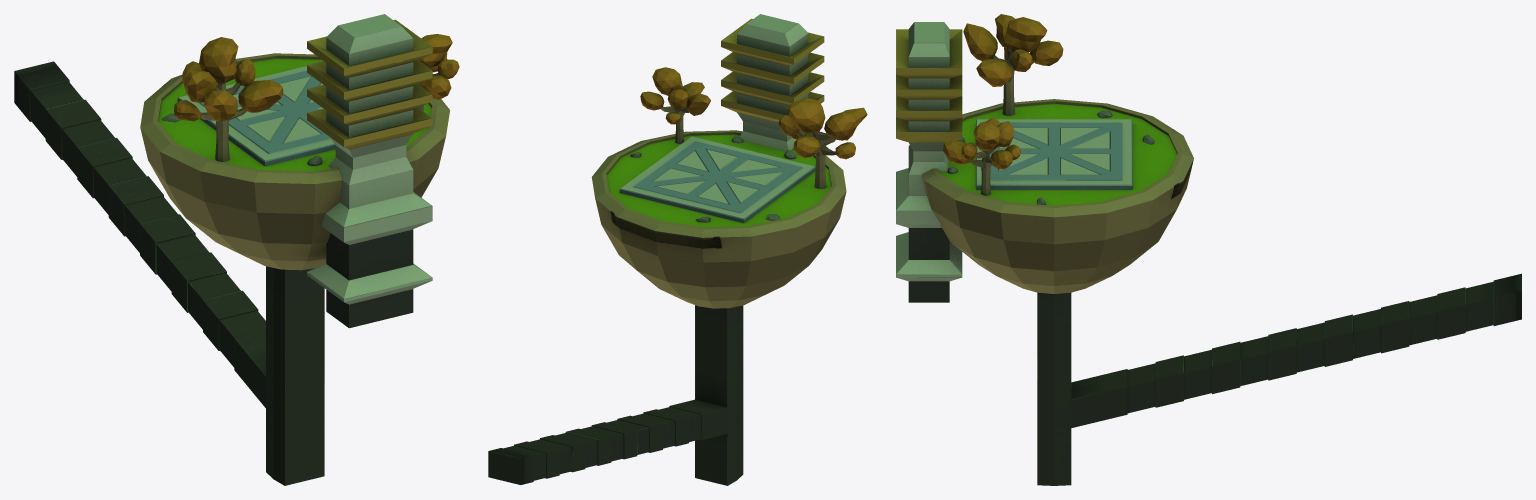
3 views of the same model, side by side, from view 1: azimuth 30°, elevation 25°; view 2: azimuth 150°, elevation 25°; view 3: azimuth 270°, elevation 25° (orthographic). The views are drawn at different scales.
Parts seen in each view (by area): view 1: Base_3x3; view 2: Base_3x3; view 3: Base_3x3.
Boxes of the visible parts, box(x1,y1,x2,y2) form: Base_3x3: box(14, 14, 459, 485); Base_3x3: box(488, 14, 867, 485); Base_3x3: box(896, 14, 1521, 485).
Size of the model in its own units: 48.21 by 82.45 by 105.
